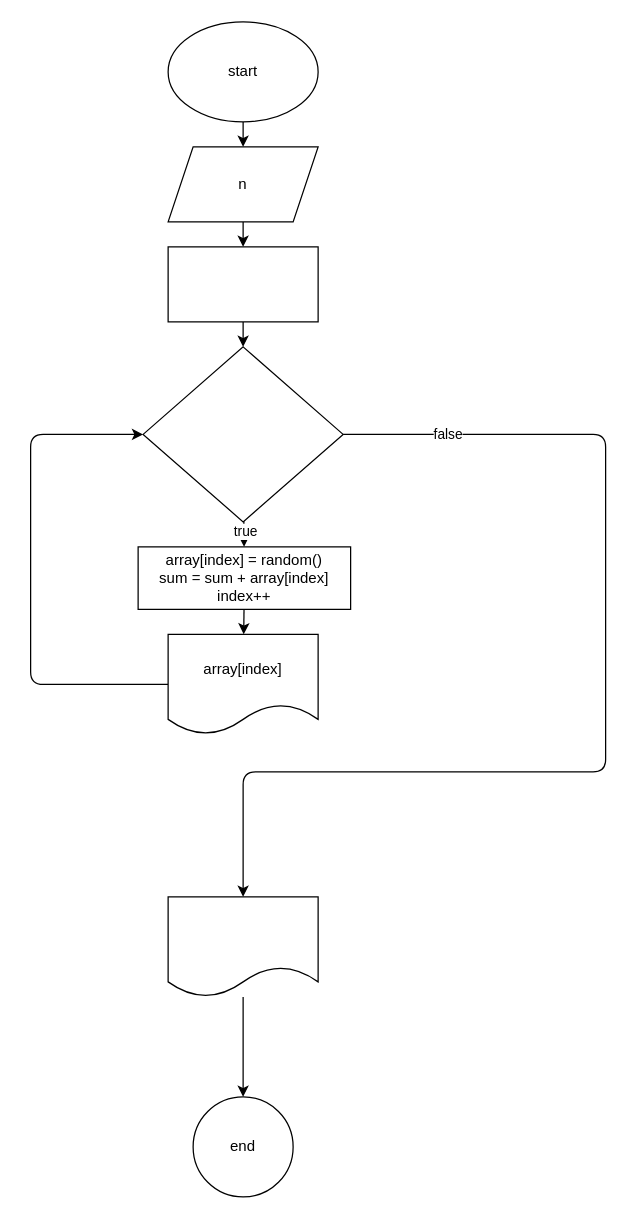
The diagram is 638 pixels wide and 1219 high, and some of its shapes have lost their labels. Each missing label, with the centre of its shape:
"index < n" goes at (242,434).
"index = 0 int array = new int[n] int sum = 0" goes at (242,284).
"sum / n" goes at (242,946).
